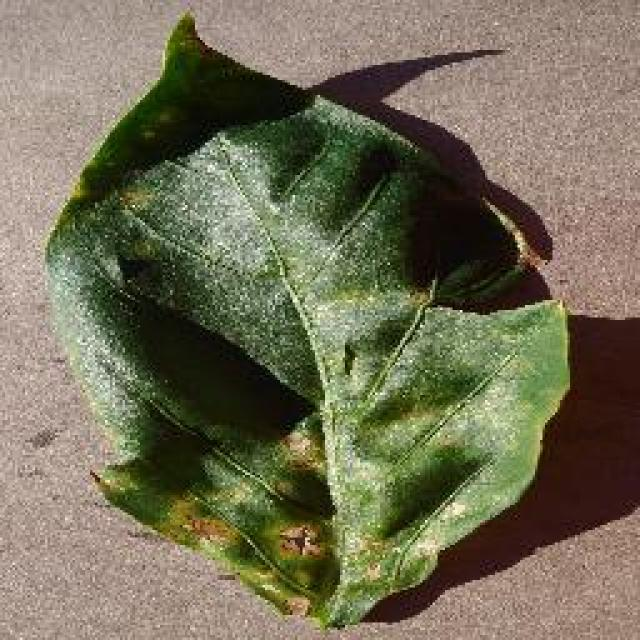Chilli_Bacterial_Spot: (40, 8, 575, 630), (110, 248, 170, 302), (277, 422, 325, 478), (273, 520, 325, 562), (113, 182, 155, 218), (278, 590, 312, 620)
